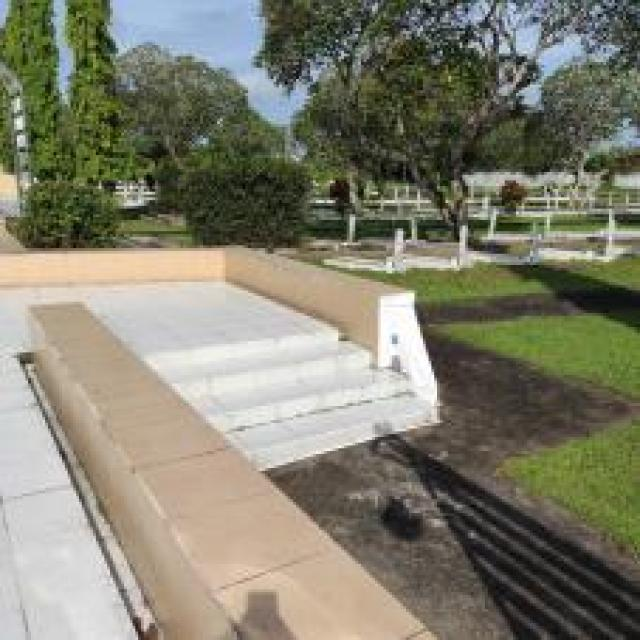upstair: (261, 331, 419, 480)
